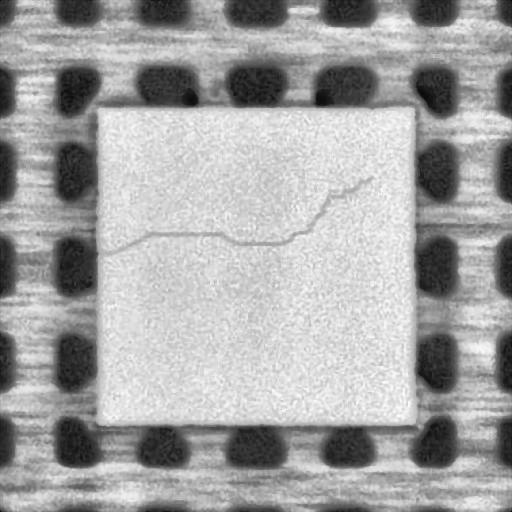DIE_CRACK: (96, 176, 375, 254)
